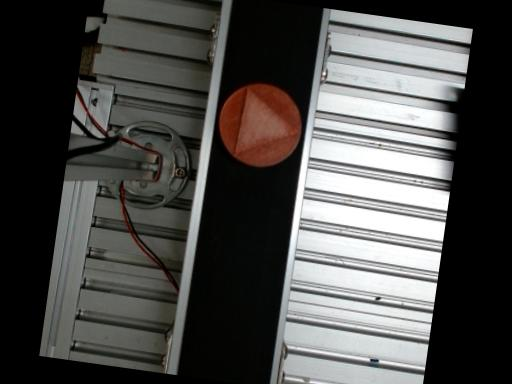Brown_Waper: (219, 83, 301, 165)
Not_Square: (234, 84, 301, 154)
